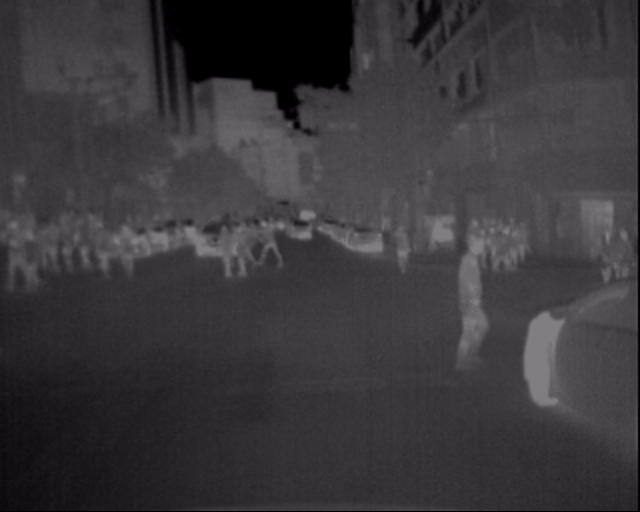person: (428, 224, 511, 376), (435, 217, 532, 277), (102, 219, 141, 296), (84, 217, 121, 291), (255, 219, 293, 280), (210, 226, 241, 281)
